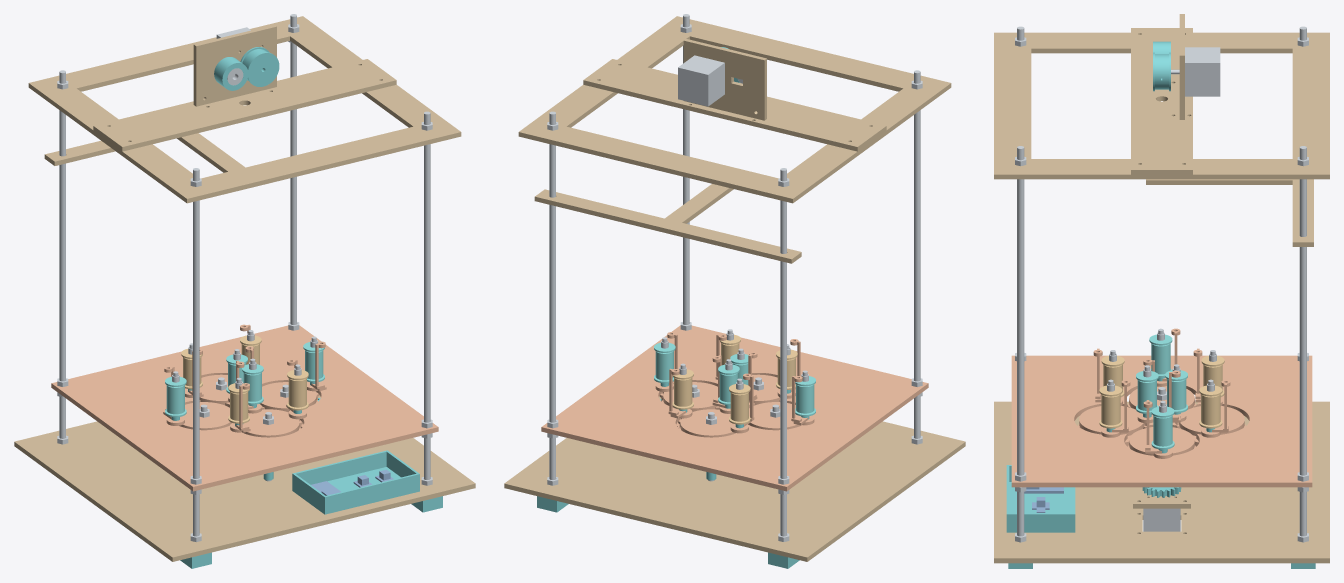
Rendered from braidbench-8.glb.
3 views of the same model, side by side, from view 1: azimuth 30°, elevation 25°; view 2: azimuth 150°, elevation 25°; view 3: azimuth 270°, elevation 25° (orthographic). The views are drawn at different scales.
Parts seen in each view (by area): view 1: 04 / Track plate + supported islands, 01 / Foundation, 08 / Upper frame, 09 / Take-up bridge, 02 / Threaded mast (×4), 13 / Control tray, 10 / Motor and idler face, 07 / Forming eye support, 11 / Driven capstan, 12 / Adjustable idler; view 2: 01 / Foundation, 04 / Track plate + supported islands, 08 / Upper frame, 02 / Threaded mast (×4), 09 / Take-up bridge, 07 / Forming eye support, 10 / Motor and idler face, Take-up motor; view 3: 04 / Track plate + supported islands, 01 / Foundation, 08 / Upper frame, 09 / Take-up bridge, 02 / Threaded mast (×2), 13 / Control tray, 07 / Forming eye support, Take-up motor, Drive motor riser, Drive motor, 11 / Driven capstan, 10 / Motor and idler face (+6 smaller).
Part boxes in pixels (x1,y1,x2,y2): 04 / Track plate + supported islands: (51, 325, 438, 491); 01 / Foundation: (14, 395, 475, 561); 08 / Upper frame: (28, 16, 461, 203); 09 / Take-up bridge: (93, 59, 396, 151); 02 / Threaded mast (×4): (59, 14, 430, 536); 13 / Control tray: (292, 450, 419, 514); 10 / Motor and idler face: (193, 25, 276, 106); 07 / Forming eye support: (44, 133, 245, 172); 11 / Driven capstan: (240, 47, 279, 86); 12 / Adjustable idler: (214, 57, 247, 90); 01 / Foundation: (504, 396, 965, 561); 04 / Track plate + supported islands: (541, 325, 928, 491); 08 / Upper frame: (518, 16, 951, 203); 02 / Threaded mast (×4): (549, 14, 920, 536); 09 / Take-up bridge: (583, 59, 886, 151); 07 / Forming eye support: (534, 184, 801, 263); 10 / Motor and idler face: (683, 39, 766, 120); Take-up motor: (678, 55, 724, 106); 04 / Track plate + supported islands: (1011, 355, 1312, 487); 01 / Foundation: (994, 401, 1329, 563); 08 / Upper frame: (994, 32, 1329, 179); 09 / Take-up bridge: (1131, 28, 1192, 174); 02 / Threaded mast (×2): (1017, 146, 1306, 536); 13 / Control tray: (1006, 465, 1075, 532); 07 / Forming eye support: (1146, 179, 1313, 246); Take-up motor: (1171, 47, 1220, 96); Drive motor riser: (1133, 487, 1190, 508); Drive motor: (1143, 508, 1180, 531); 11 / Driven capstan: (1153, 52, 1170, 91); 10 / Motor and idler face: (1179, 14, 1184, 119).
Bounding box in the file's own units: 0.42 × 0.586 × 0.38.
